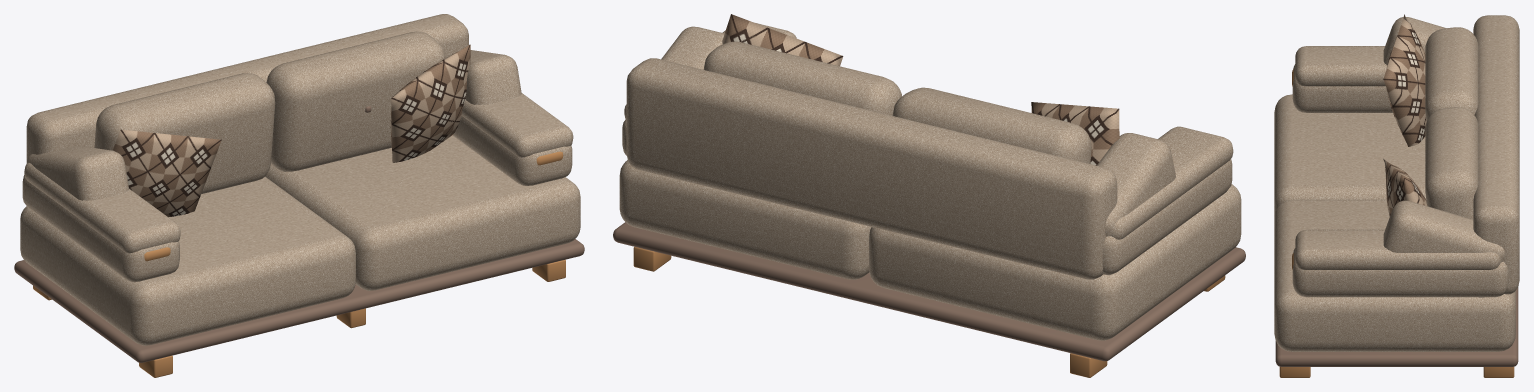
Rendered from limoon-2li-koltuk.glb.
3 views of the same model, side by side, from view 1: azimuth 30°, elevation 25°; view 2: azimuth 150°, elevation 25°; view 3: azimuth 270°, elevation 25° (orthographic). The views are drawn at different scales.
Visible parts, largest first — view 1: Limoon2Li_Seat_0, Limoon2Li_Seat_1, Limoon2Li_BackCushion_1, Limoon2Li_BackCushion_0, Limoon2Li_Plinth, Limoon2Li_BackFrame, Limoon2Li_ThrowPillow_0, Limoon2Li_ThrowPillow_1, Limoon2Li_ArmTopPillow_0, Limoon2Li_ArmBase_0, Limoon2Li_ArmTopPillow_1, Limoon2Li_SideWing_0 (+4 smaller); view 2: Limoon2Li_BackFrame, Limoon2Li_Seat_0, Limoon2Li_Seat_1, Limoon2Li_Plinth, Limoon2Li_BackCushion_0, Limoon2Li_BackCushion_1, Limoon2Li_ArmTopPillow_0, Limoon2Li_SideWing_0, Limoon2Li_ArmBase_0, Limoon2Li_ThrowPillow_0, Limoon2Li_ThrowPillow_1, Limoon2Li_SideWing_1 (+2 smaller); view 3: Limoon2Li_Seat_1, Limoon2Li_Seat_0, Limoon2Li_BackFrame, Limoon2Li_ArmBase_1, Limoon2Li_ArmTopPillow_1, Limoon2Li_BackCushion_1, Limoon2Li_SideWing_1, Limoon2Li_BackCushion_0, Limoon2Li_Plinth, Limoon2Li_ThrowPillow_0, Limoon2Li_ArmTopPillow_0, Limoon2Li_ArmBase_0 (+4 smaller).
Boxes of the visible parts, left/top/right/bottom form: Limoon2Li_Seat_0: left=20, top=176, right=355, bottom=345; Limoon2Li_Seat_1: left=265, top=135, right=580, bottom=290; Limoon2Li_BackCushion_1: left=266, top=31, right=445, bottom=171; Limoon2Li_BackCushion_0: left=94, top=73, right=275, bottom=193; Limoon2Li_Plinth: left=14, top=239, right=584, bottom=362; Limoon2Li_BackFrame: left=26, top=14, right=468, bottom=163; Limoon2Li_ThrowPillow_0: left=113, top=129, right=221, bottom=217; Limoon2Li_ThrowPillow_1: left=390, top=44, right=470, bottom=162; Limoon2Li_ArmTopPillow_0: left=24, top=162, right=180, bottom=253; Limoon2Li_ArmBase_0: left=22, top=175, right=179, bottom=282; Limoon2Li_ArmTopPillow_1: left=461, top=93, right=573, bottom=157; Limoon2Li_SideWing_0: left=27, top=146, right=128, bottom=200; Limoon2Li_BackFrame: left=626, top=58, right=1117, bottom=279; Limoon2Li_Seat_0: left=869, top=184, right=1241, bottom=340; Limoon2Li_Seat_1: left=619, top=160, right=871, bottom=279; Limoon2Li_Plinth: left=613, top=222, right=1245, bottom=361; Limoon2Li_BackCushion_0: left=892, top=87, right=1091, bottom=163; Limoon2Li_BackCushion_1: left=703, top=41, right=901, bottom=115; Limoon2Li_ArmTopPillow_0: left=1110, top=126, right=1233, bottom=239; Limoon2Li_SideWing_0: left=1097, top=133, right=1175, bottom=236; Limoon2Li_ArmBase_0: left=1102, top=159, right=1232, bottom=275; Limoon2Li_ThrowPillow_0: left=1031, top=102, right=1119, bottom=165; Limoon2Li_ThrowPillow_1: left=722, top=14, right=843, bottom=66; Limoon2Li_SideWing_1: left=661, top=26, right=724, bottom=69; Limoon2Li_Seat_1: left=1274, top=199, right=1515, bottom=351; Limoon2Li_Seat_0: left=1274, top=94, right=1426, bottom=216; Limoon2Li_BackFrame: left=1473, top=15, right=1519, bottom=294; Limoon2Li_ArmBase_1: left=1292, top=248, right=1508, bottom=297; Limoon2Li_ArmTopPillow_1: left=1295, top=229, right=1500, bottom=269; Limoon2Li_BackCushion_1: left=1425, top=107, right=1478, bottom=219; Limoon2Li_SideWing_1: left=1383, top=200, right=1504, bottom=297; Limoon2Li_BackCushion_0: left=1425, top=27, right=1478, bottom=121; Limoon2Li_Plinth: left=1275, top=287, right=1518, bottom=366; Limoon2Li_ThrowPillow_0: left=1383, top=14, right=1426, bottom=146; Limoon2Li_ArmTopPillow_0: left=1295, top=46, right=1387, bottom=86; Limoon2Li_ArmBase_0: left=1292, top=64, right=1392, bottom=112.
Bounding box in the file's own units: 1.94 × 0.8007 × 0.9546.
Materials: 4 (2 with a texture image).
